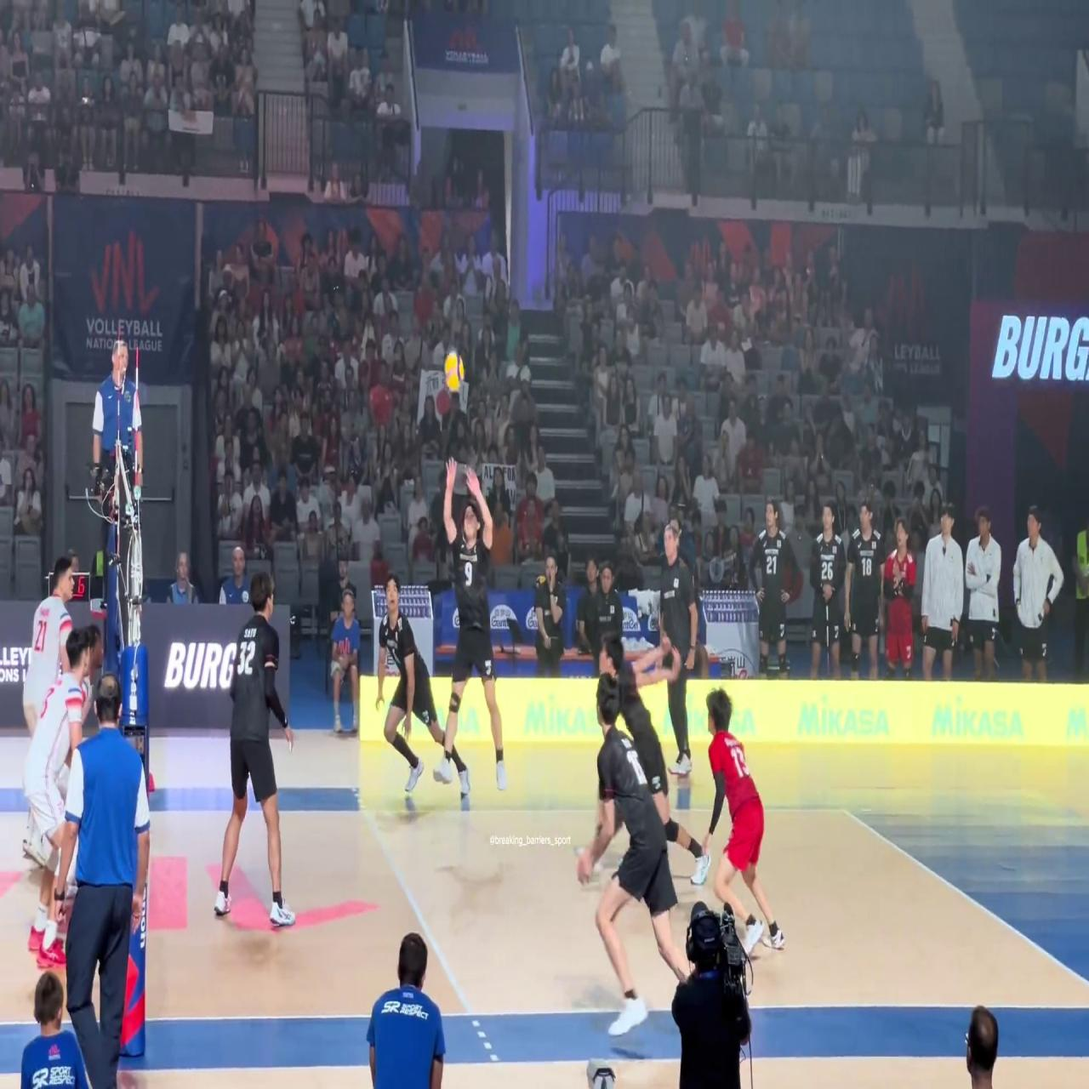ball: (444, 353, 464, 390)
